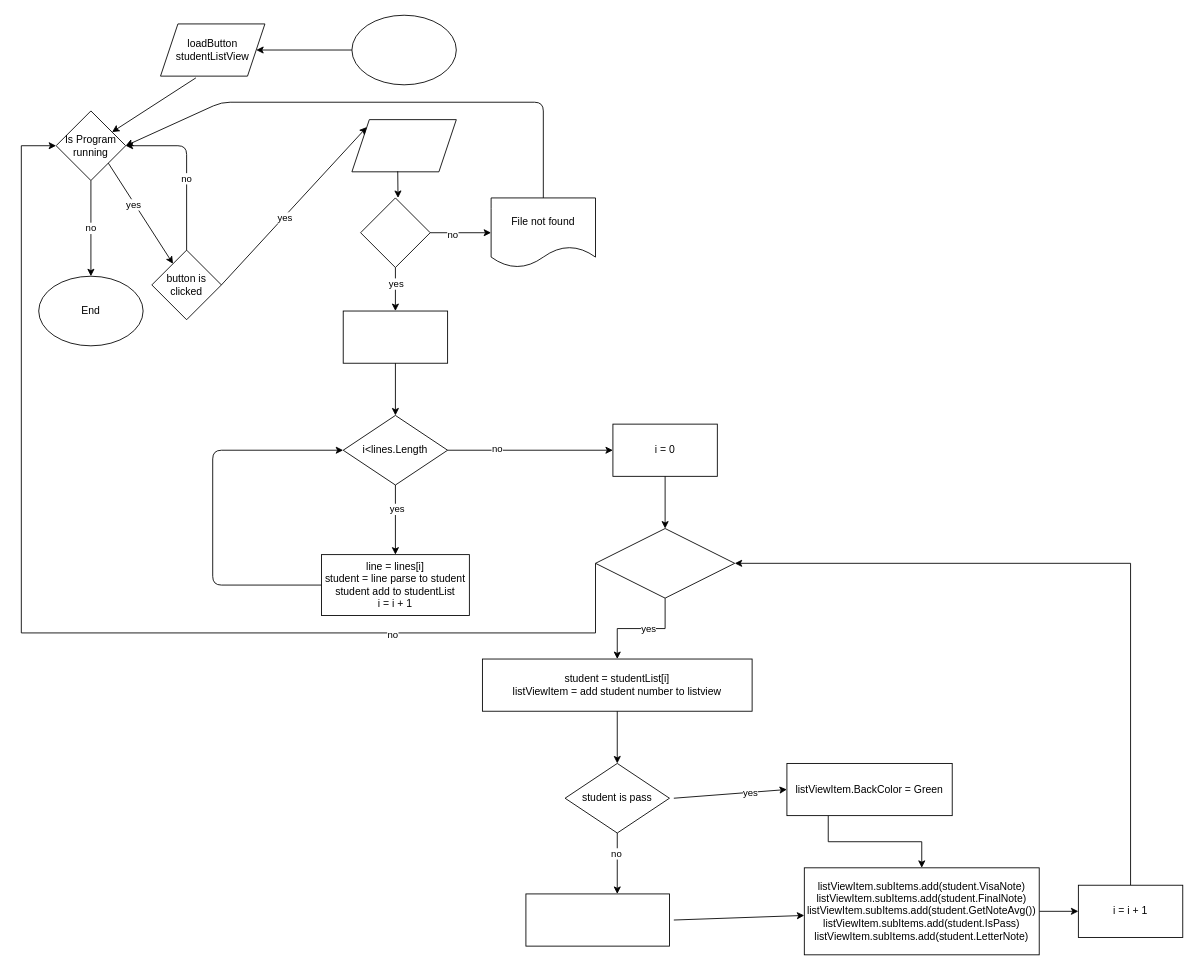
Some shapes in this 1198 by 970 pixel diagram are drawn without their labels. The shapes that lost their labels are listed below. From the top down, each one's centre as x and y in pixels, then its label:
At point 403,49: "start".
At point 403,145: "path".
At point 395,232: "Is Path exists".
At point 395,336: "lines = read path lines i = 0 studentList = List".
At point 665,563: "i<studentList.Length".
At point 597,919: "listViewItem.BackColor = Red".
